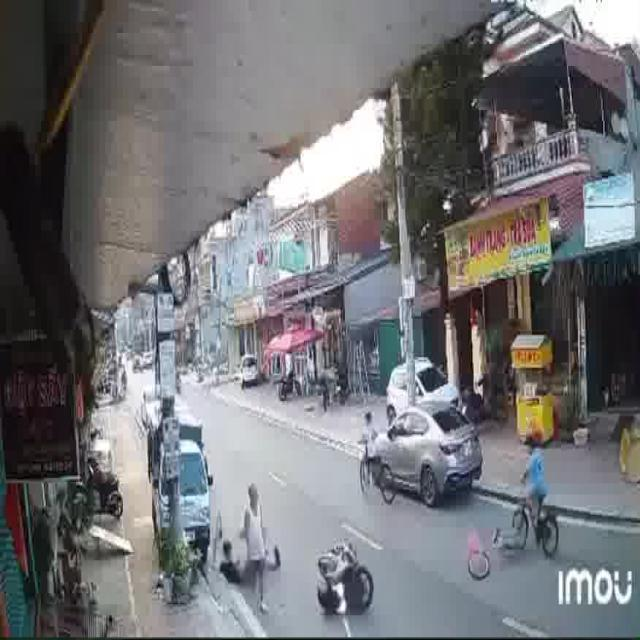multiple_accident: (308, 530, 382, 623)
